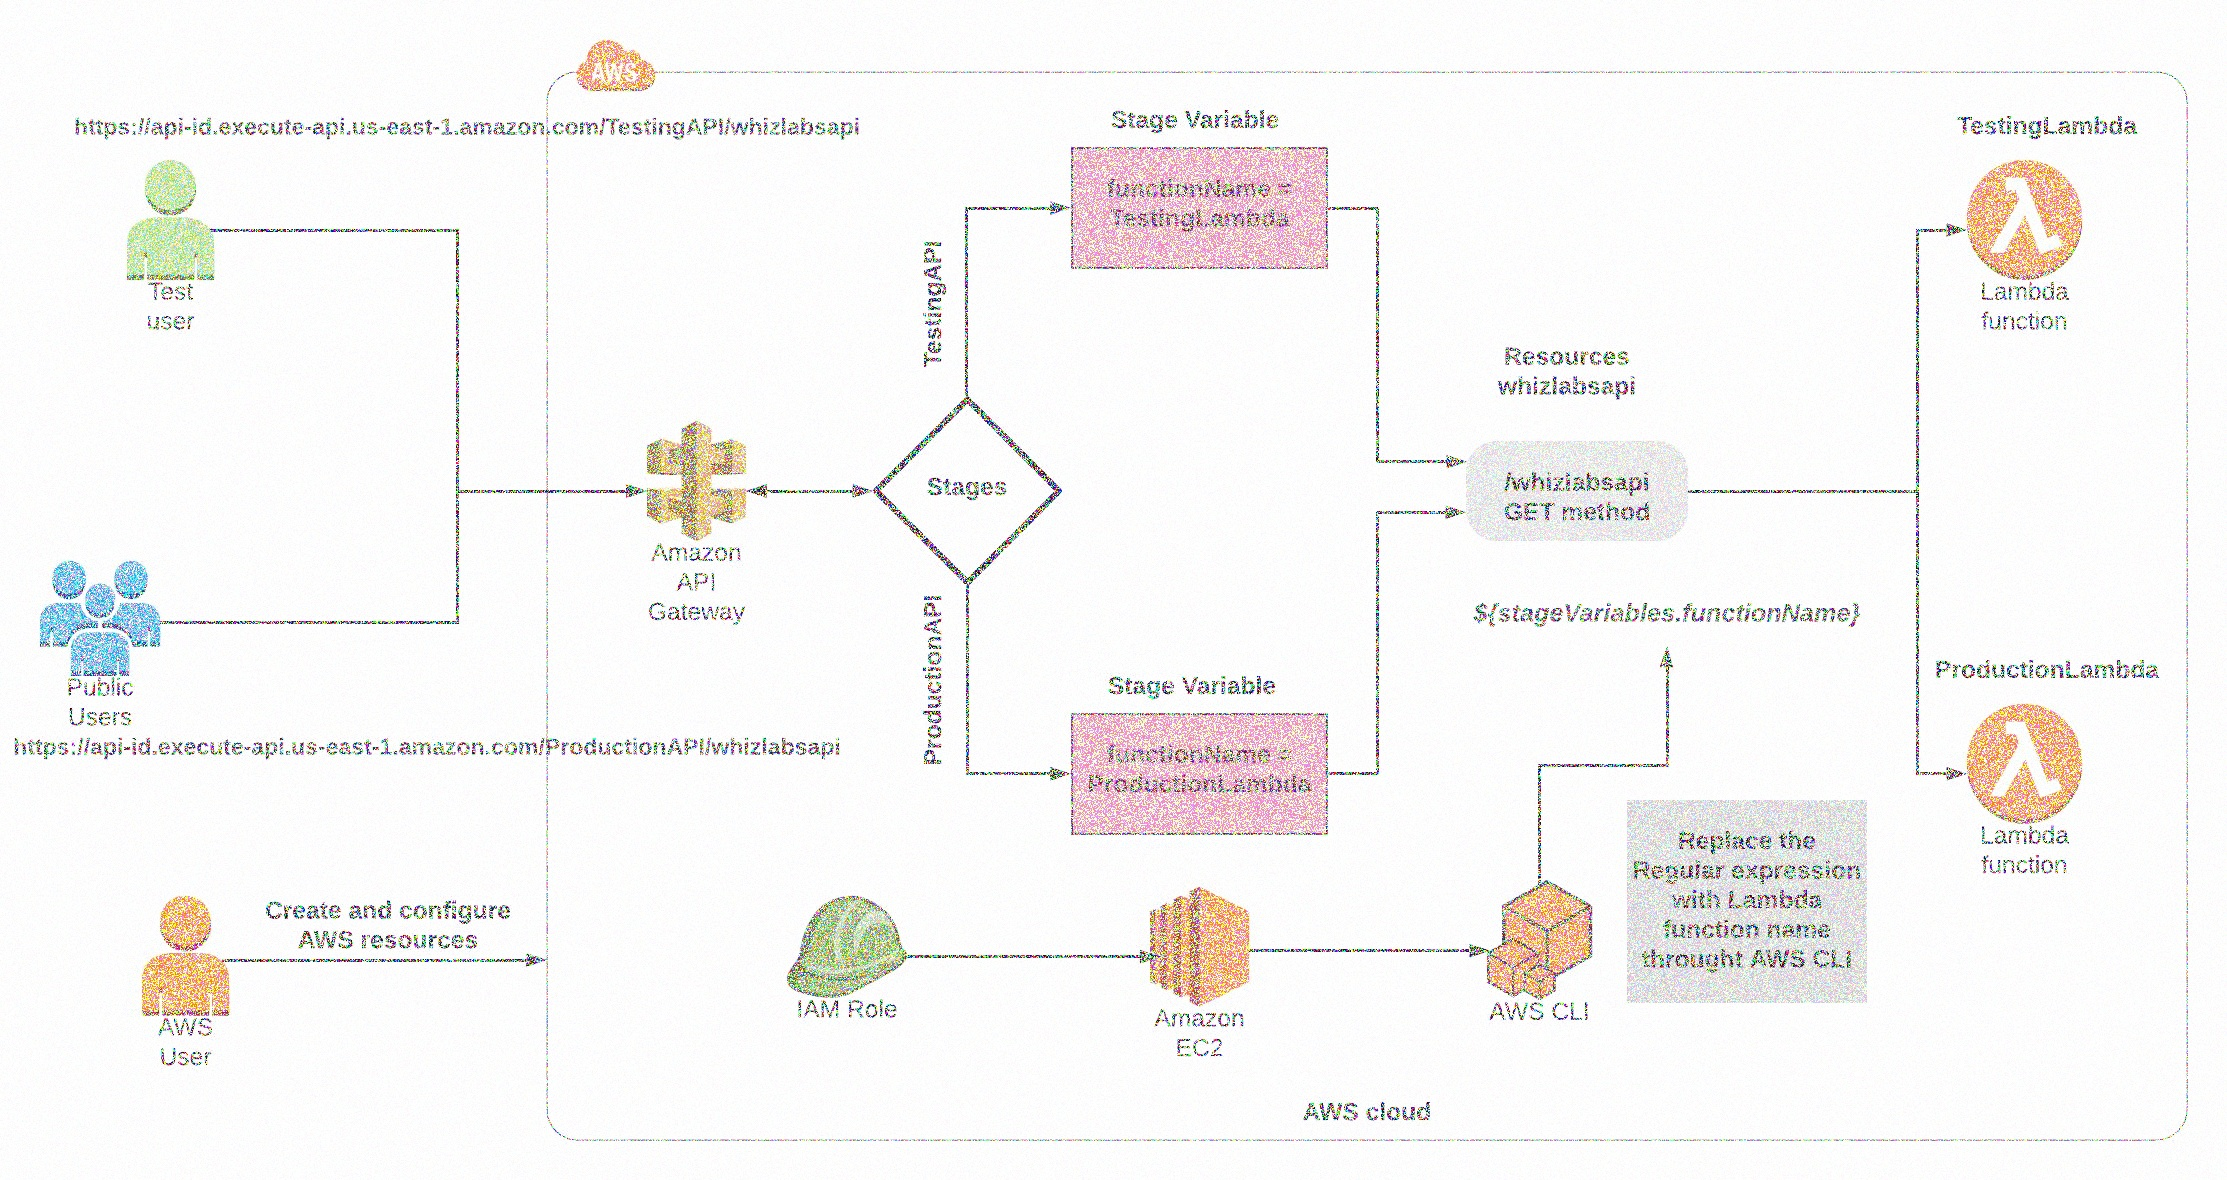API-Gateway: (638, 409, 758, 543)
Client: (1483, 867, 1601, 999)
EC2: (1138, 879, 1268, 1009)
IAM Role: (778, 882, 916, 1004)
Lambda: (1961, 697, 2091, 829), (1961, 152, 2088, 285)
Users: (31, 557, 170, 680), (118, 142, 225, 290), (136, 882, 247, 1021)
aws: (563, 32, 665, 97)
